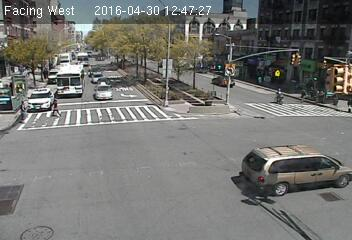neg: (218, 159, 241, 190), (15, 21, 38, 51), (76, 15, 98, 45), (3, 172, 23, 198), (135, 14, 154, 39), (281, 16, 300, 40), (75, 66, 93, 89), (109, 90, 126, 113), (162, 68, 179, 90), (113, 127, 130, 149), (201, 61, 217, 83), (268, 84, 284, 105), (152, 88, 168, 108), (194, 100, 208, 119), (257, 180, 271, 199), (30, 219, 41, 234), (245, 24, 256, 39), (314, 154, 325, 168), (269, 154, 278, 166)
pos: (44, 93, 63, 119), (12, 97, 30, 121), (294, 85, 311, 107), (341, 91, 351, 114)
